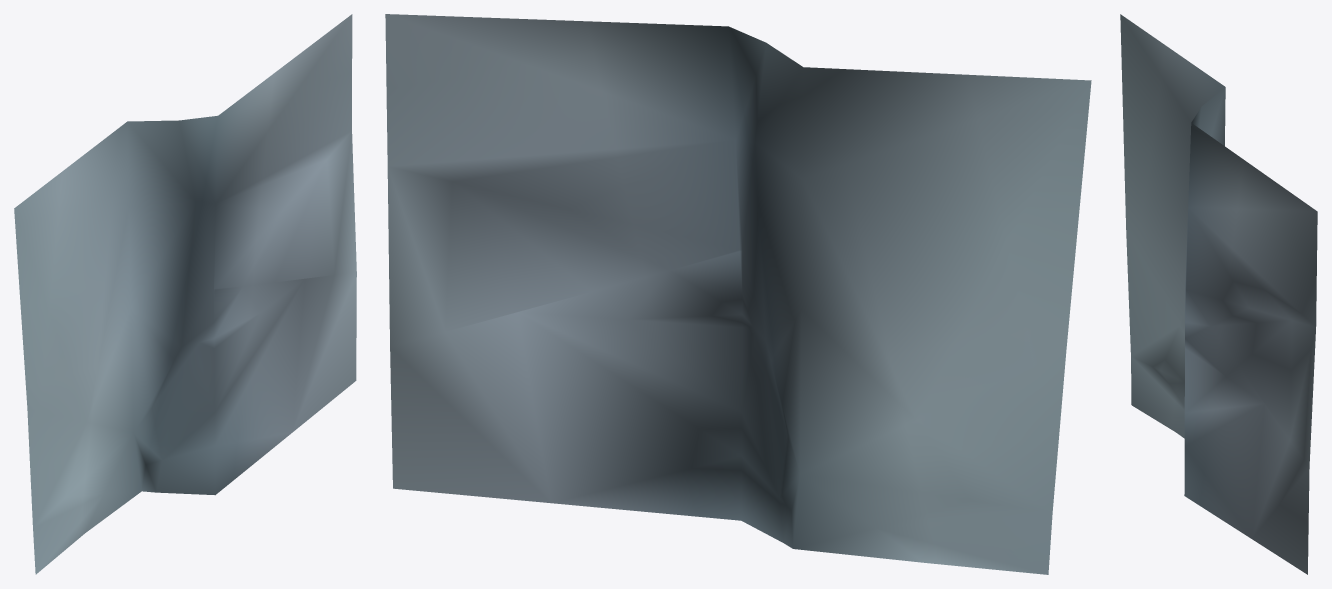
3 views of the same model, side by side, from view 1: azimuth 30°, elevation 25°; view 2: azimuth 150°, elevation 25°; view 3: azimuth 270°, elevation 25° (orthographic). The views are drawn at different scales.
Parts seen in each view (by area): view 1: Tile_1.004; view 2: Tile_1.004; view 3: Tile_1.004.
Boxes of the visible parts, <box> form: Tile_1.004: <box>14,14,356,574</box>; Tile_1.004: <box>385,14,1091,574</box>; Tile_1.004: <box>1120,14,1317,574</box>.
Size of the model in its own units: 0.7985 by 0.6862 by 0.3115.
1 material, 1 textured.
